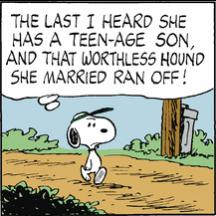snoopy: (66, 106, 118, 184)
